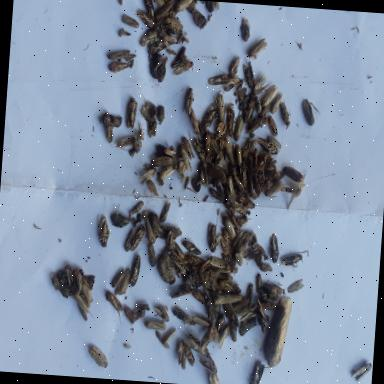pbw: (160, 246, 180, 278), (348, 359, 373, 384), (94, 212, 110, 250), (48, 274, 71, 300), (280, 250, 304, 272), (221, 304, 241, 330), (173, 338, 189, 370), (88, 348, 111, 370), (72, 292, 90, 320), (215, 234, 233, 262), (176, 145, 194, 173), (190, 134, 207, 163), (213, 291, 243, 307), (110, 133, 135, 152), (248, 37, 268, 60), (199, 352, 219, 375), (149, 38, 174, 56), (101, 111, 115, 143), (113, 270, 130, 296), (147, 212, 164, 238), (129, 252, 141, 288), (222, 141, 238, 168), (206, 221, 219, 254), (136, 9, 157, 29), (172, 59, 194, 78), (281, 166, 304, 184), (126, 96, 138, 130), (190, 6, 207, 30), (302, 98, 316, 127), (158, 264, 177, 285), (262, 84, 280, 106), (138, 166, 156, 188), (242, 61, 256, 89), (278, 102, 292, 130), (106, 48, 134, 62), (255, 302, 272, 325), (268, 234, 281, 264), (148, 52, 163, 78), (180, 135, 196, 159), (246, 116, 266, 135), (264, 181, 284, 200), (140, 27, 158, 48), (240, 303, 258, 324), (201, 132, 213, 163), (222, 215, 238, 238), (110, 265, 126, 288), (130, 227, 144, 253), (162, 15, 182, 33), (154, 330, 172, 350), (80, 280, 95, 304), (250, 359, 264, 384), (236, 232, 251, 255), (207, 73, 230, 88), (158, 161, 176, 180), (182, 266, 201, 284), (231, 201, 251, 218), (171, 285, 191, 302), (182, 239, 202, 256), (131, 302, 148, 322), (201, 104, 214, 130), (150, 154, 174, 168), (108, 60, 132, 74), (155, 143, 177, 158), (225, 108, 236, 138), (228, 54, 241, 79), (98, 115, 123, 128), (157, 56, 169, 83), (207, 187, 224, 206), (155, 0, 172, 19), (183, 347, 197, 370), (256, 151, 270, 174), (222, 77, 242, 93), (172, 310, 192, 326), (215, 94, 226, 123), (239, 16, 251, 42), (233, 115, 245, 141), (173, 0, 195, 14), (209, 137, 223, 159), (110, 214, 132, 228), (239, 316, 253, 338), (198, 330, 212, 352), (238, 196, 256, 213), (232, 300, 249, 318), (121, 14, 140, 30), (224, 255, 240, 274), (144, 219, 156, 244), (64, 264, 77, 287), (159, 202, 172, 225), (133, 127, 144, 154), (286, 280, 304, 296), (128, 200, 144, 218), (217, 326, 229, 350), (146, 244, 158, 268), (264, 284, 282, 300), (190, 108, 201, 134), (252, 74, 265, 96), (270, 93, 283, 115), (141, 0, 156, 19), (184, 86, 194, 114), (209, 274, 222, 295), (246, 247, 264, 262), (201, 268, 220, 282), (226, 210, 240, 229), (172, 47, 186, 66), (257, 312, 269, 334), (200, 162, 212, 184), (232, 229, 244, 251), (123, 306, 136, 326), (154, 306, 170, 322), (210, 166, 226, 182), (231, 172, 245, 190), (146, 180, 160, 198), (266, 115, 278, 136), (196, 259, 210, 277), (141, 322, 166, 332), (250, 173, 260, 197), (156, 24, 176, 36), (211, 296, 221, 320), (238, 97, 248, 121), (218, 277, 235, 291), (75, 268, 84, 294), (197, 167, 208, 188), (160, 34, 179, 46), (162, 328, 176, 344), (194, 316, 211, 329), (124, 231, 134, 253), (226, 174, 236, 196), (215, 312, 225, 334), (237, 90, 248, 110), (210, 256, 228, 268), (260, 292, 278, 304), (196, 274, 211, 288), (184, 255, 200, 268), (247, 92, 255, 118), (216, 184, 228, 201), (174, 258, 186, 275), (238, 168, 248, 188), (206, 294, 214, 319), (248, 138, 258, 158), (245, 151, 254, 173), (234, 216, 248, 230), (226, 164, 238, 180), (203, 0, 215, 16), (252, 148, 260, 172), (263, 156, 272, 176), (260, 300, 278, 310), (252, 96, 262, 114), (177, 160, 186, 180), (218, 264, 240, 272), (230, 322, 238, 344), (242, 140, 250, 162), (234, 144, 242, 166), (166, 232, 175, 251), (205, 374, 222, 384), (192, 290, 205, 303), (246, 172, 254, 193), (269, 160, 276, 184), (172, 245, 184, 259), (203, 279, 218, 290), (260, 176, 269, 194), (245, 285, 254, 303), (233, 187, 245, 200), (255, 272, 263, 290), (222, 184, 232, 198), (238, 87, 247, 102), (222, 229, 231, 244), (222, 200, 232, 213), (216, 266, 232, 274), (258, 290, 269, 301), (260, 106, 272, 116), (128, 146, 137, 158), (274, 172, 284, 182), (149, 0, 164, 6), (264, 168, 270, 183), (157, 18, 168, 26), (214, 1, 222, 12), (272, 165, 280, 176), (236, 254, 243, 266), (187, 282, 201, 288), (257, 170, 263, 180), (116, 0, 124, 7)
